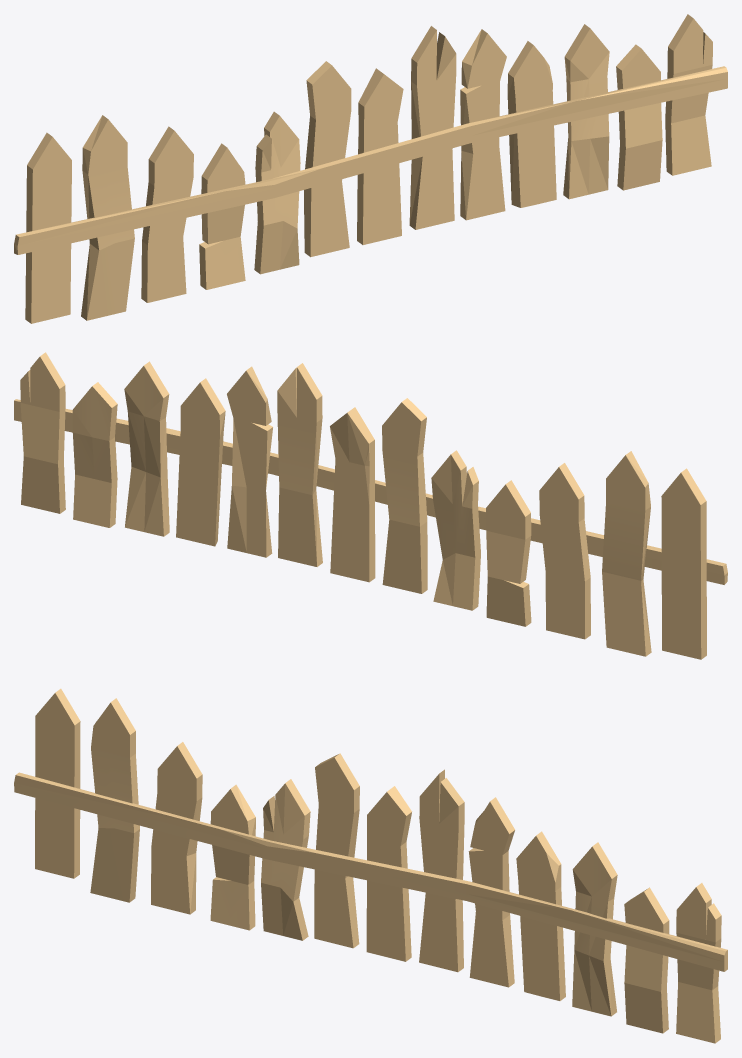
The model's file is fence002.gltf.
3 renders of one model, top to bottom at view 1: azimuth 30°, elevation 25°; view 2: azimuth 150°, elevation 25°; view 3: azimuth 330°, elevation 25°, orthographic.
Parts seen in each view (by area): view 1: node_M_fance_17_-32326; view 2: node_M_fance_17_-32326; view 3: node_M_fance_17_-32326.
Part boxes in pixels (bbox=[...]): node_M_fance_17_-32326: bbox=[14, 14, 727, 323]; node_M_fance_17_-32326: bbox=[14, 352, 727, 659]; node_M_fance_17_-32326: bbox=[14, 688, 727, 1043].
Size of what is drawn, in the model's own units: 3.87 by 1.07 by 0.131.
